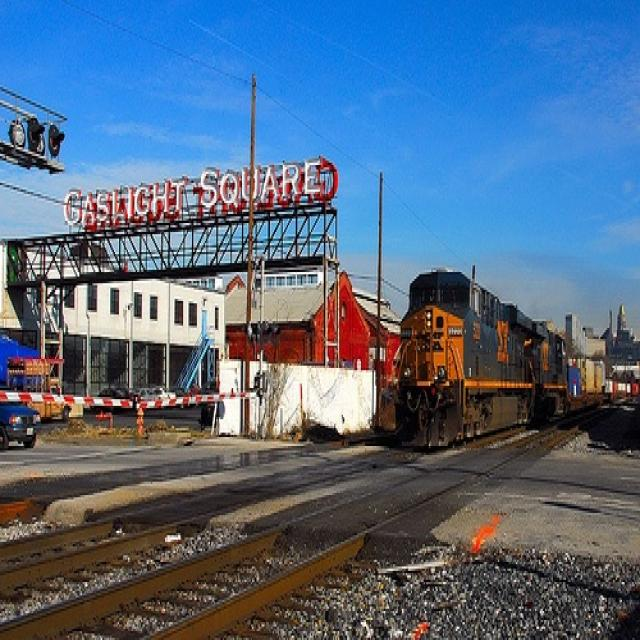car: (0, 401, 41, 453)
train: (376, 268, 639, 452)
